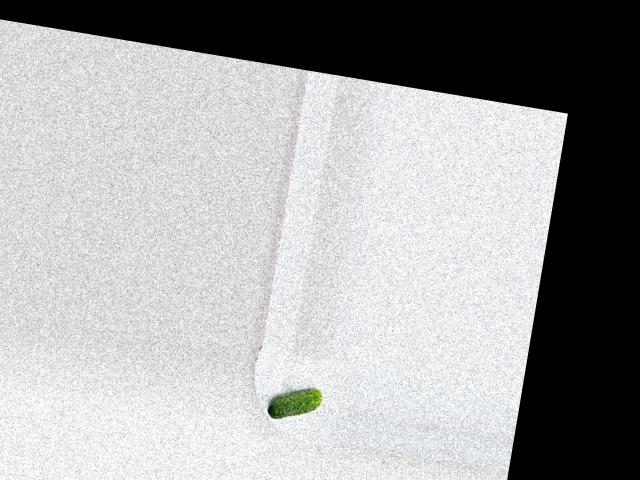cucumber: (267, 381, 323, 425)
